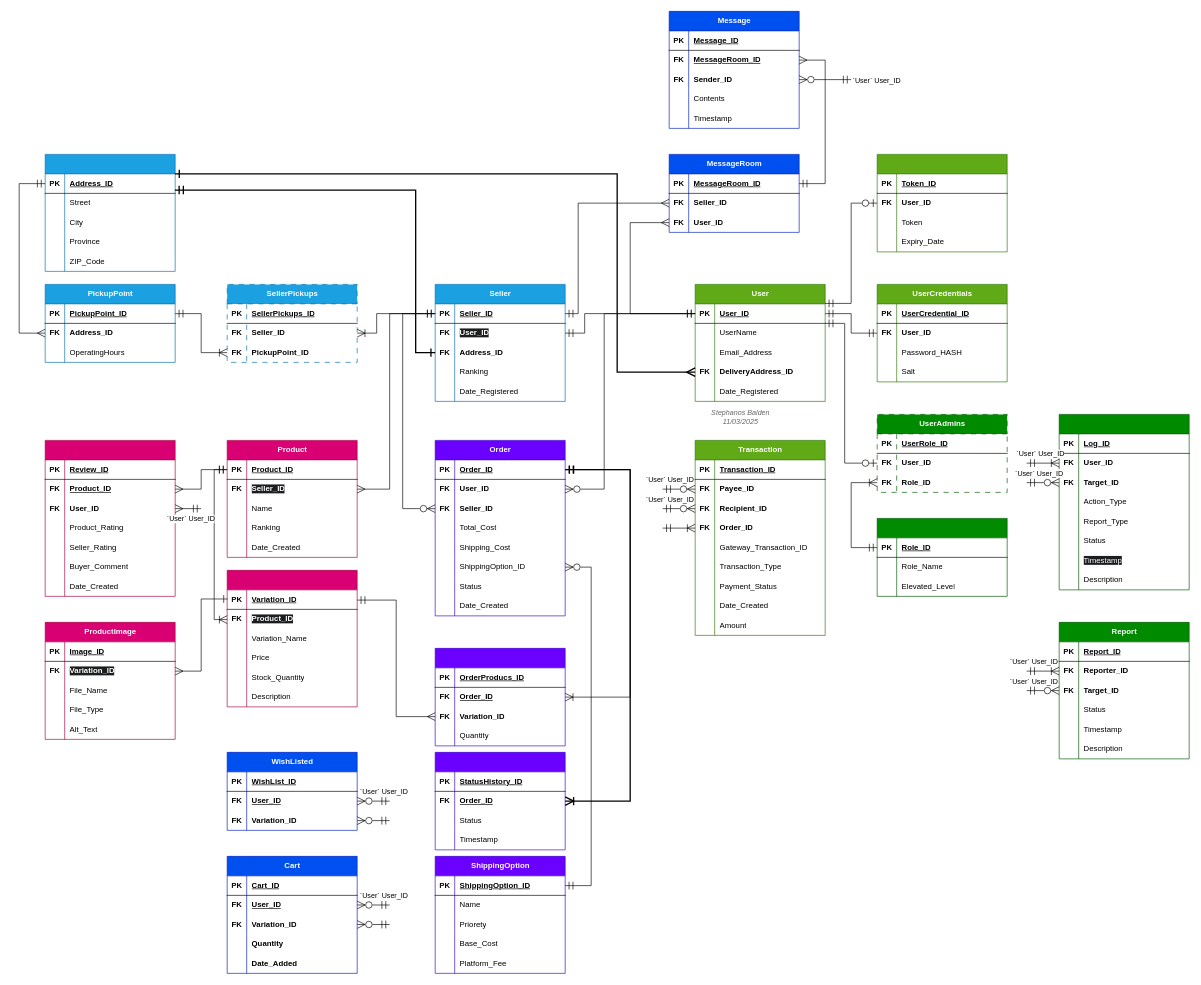
Some shapes in this 1201 by 985 pixel diagram are drawn without their labels. The shapes that lost their labels are listed below. From the top down, each one's box as (x1, y1, x2, y2) in pixels, then its label:
(45, 154, 175, 271): Addresses
(877, 154, 1007, 252): AuthTokens
(45, 440, 175, 596): ProductReview
(1059, 414, 1189, 590): AdminLogs
(877, 518, 1007, 596): Roles
(227, 570, 357, 707): ProductVariation
(435, 648, 565, 746): OrderProducts
(435, 752, 565, 850): OrderStatusHistory
